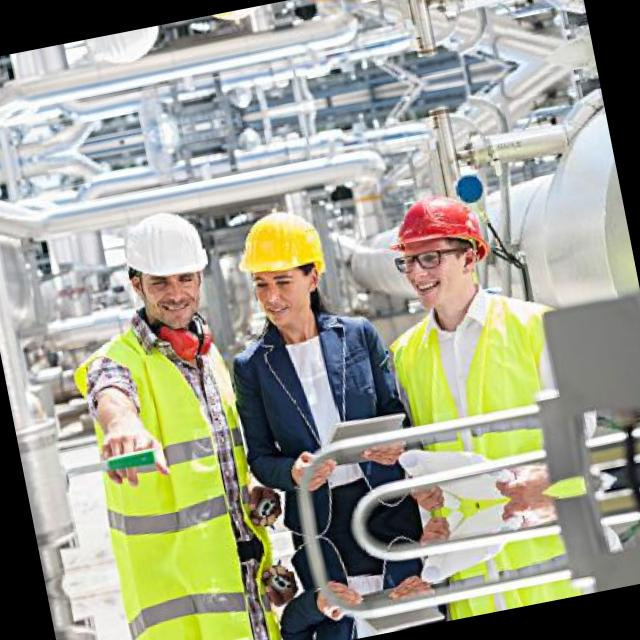helmet: (216, 182, 346, 342), (372, 170, 506, 324), (104, 186, 233, 336), (449, 413, 562, 506), (464, 490, 577, 583), (72, 22, 186, 88), (180, 1, 290, 50)
